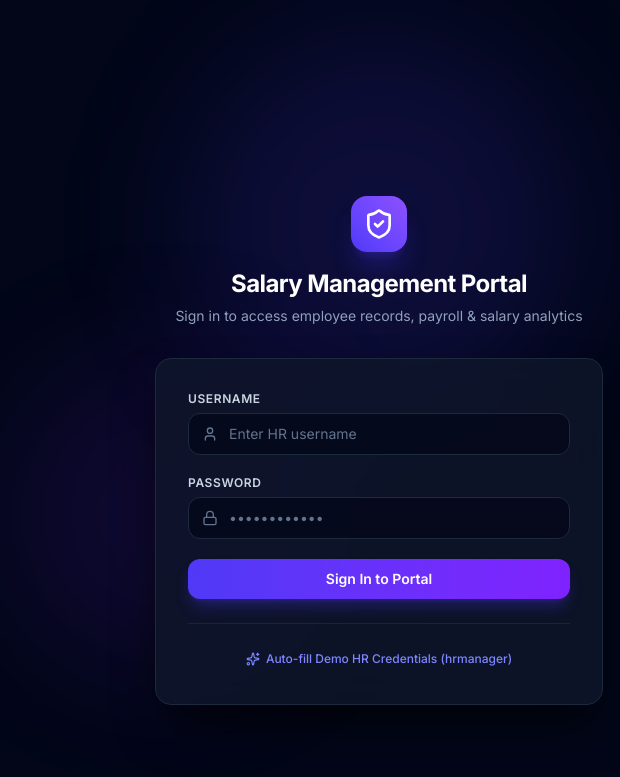
Test: LoginPage › displays error message on invalid credentials
Step 1. Type "wronguser" into the field with placeholder "Enter HR username" → coordinates (379, 434), box [188,412,570,454]
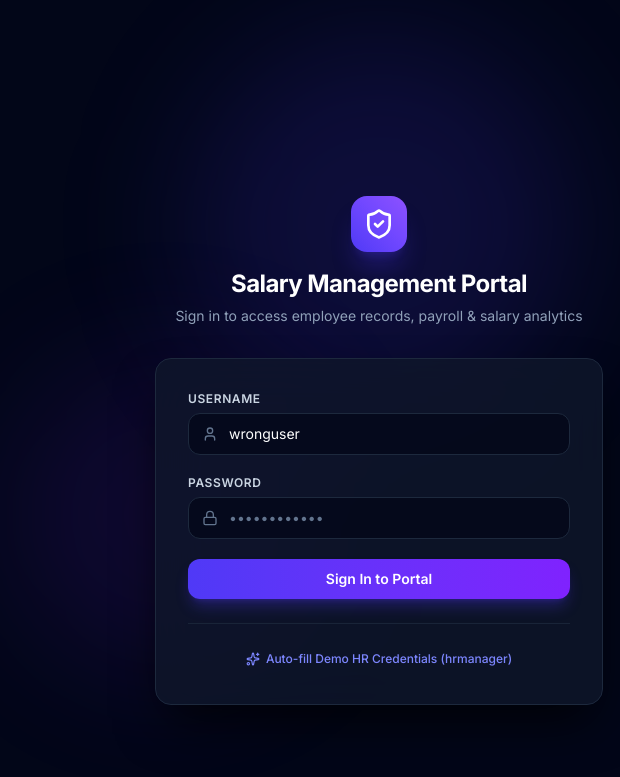
Step 2. Type "wrongpass" into the password field with placeholder "••••••••••••" → coordinates (379, 518), box [188,496,570,538]
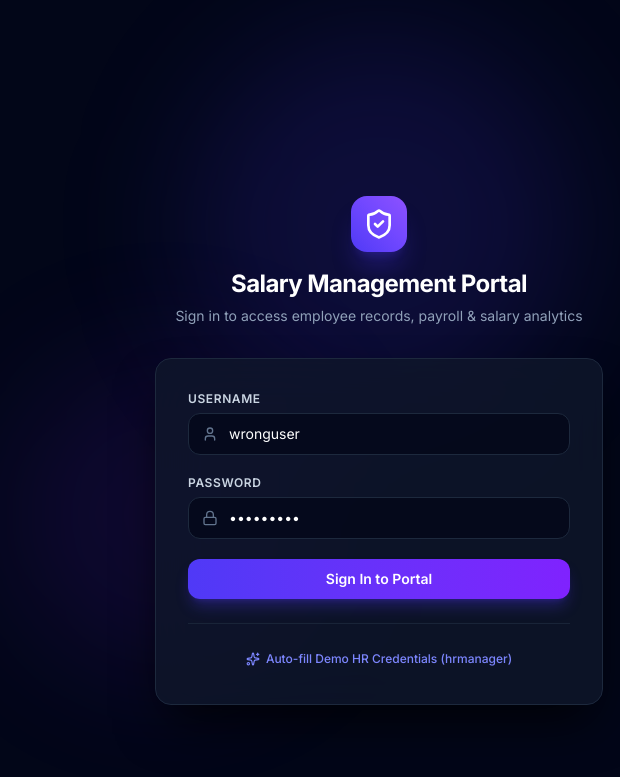
Step 3. Click the button "Sign In to Portal" → coordinates (379, 578), box [188,558,570,598]
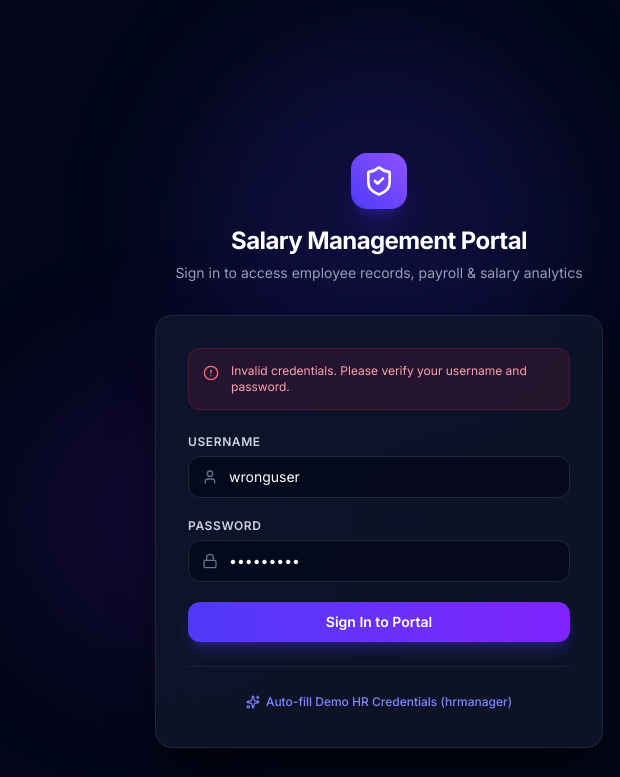
Check: the text "Invalid credentials" is shown, box [231,362,527,394]
